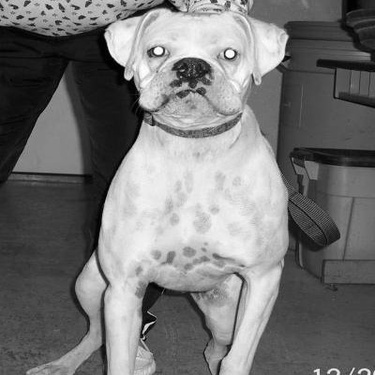dog: (10, 2, 302, 372)
